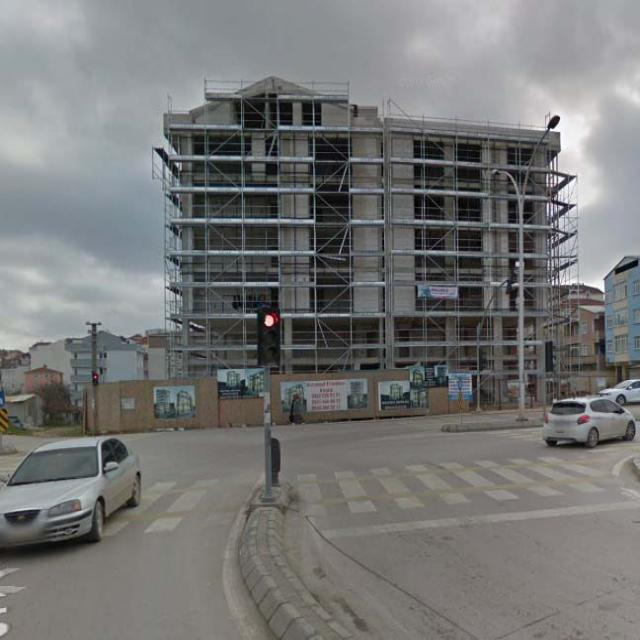kirmizi: (261, 308, 278, 361)
